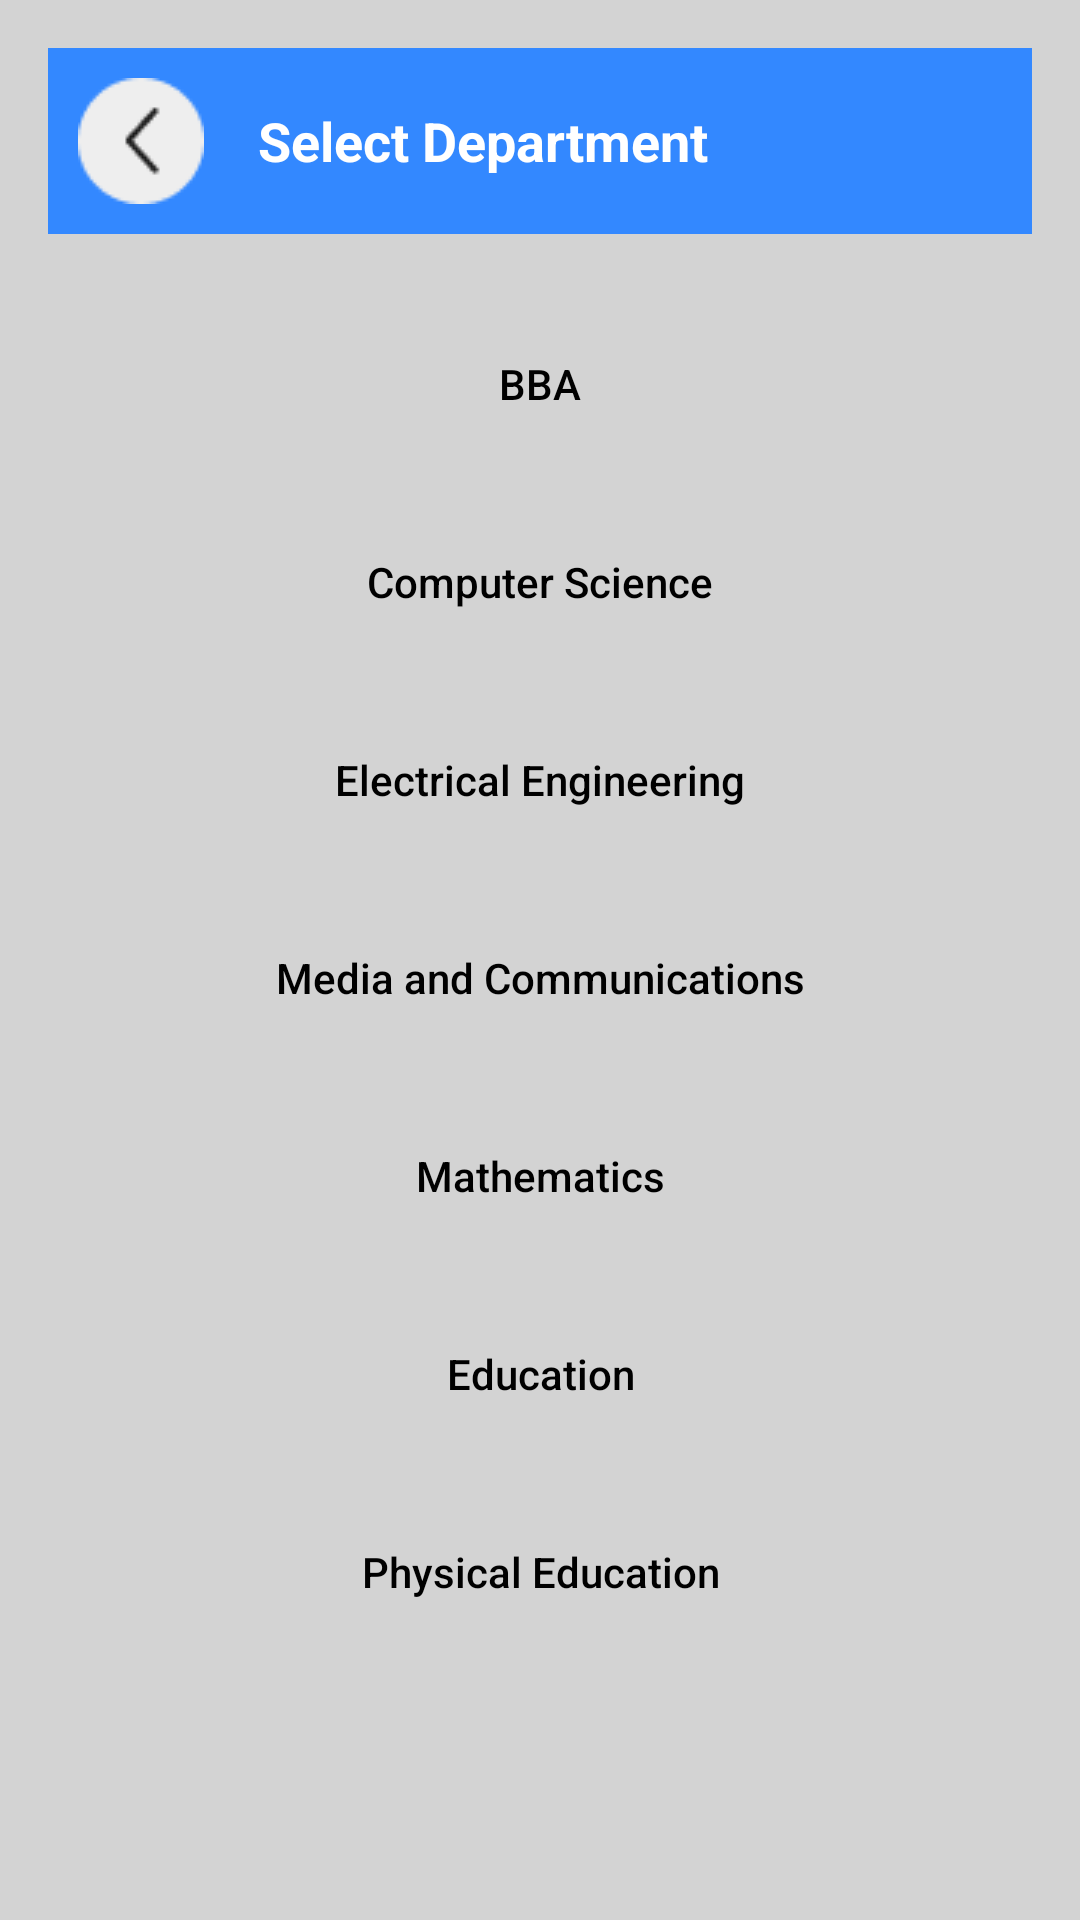

Screen size 1080*1920. Icon name, then its box in pixels as (left=x1, top=y1, right=x2, bottom=y2):
arrow back: (left=48, top=48, right=234, bottom=234)
